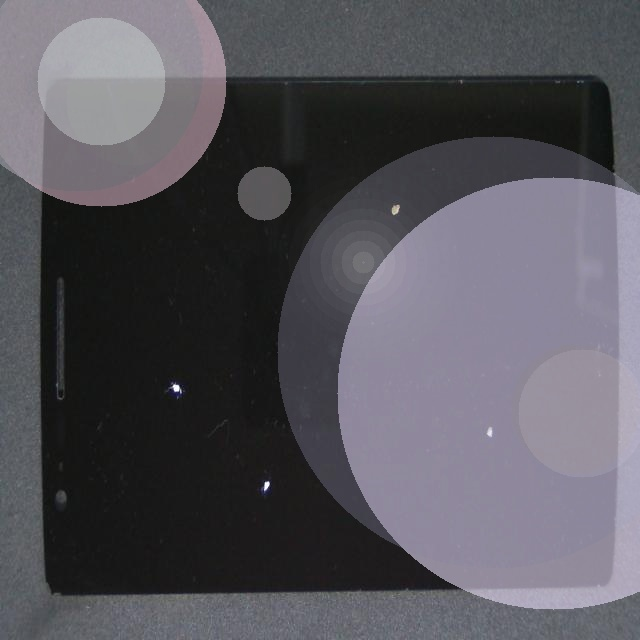stain: (247, 157, 640, 633), (75, 237, 394, 640), (157, 145, 574, 380), (93, 141, 244, 566)
